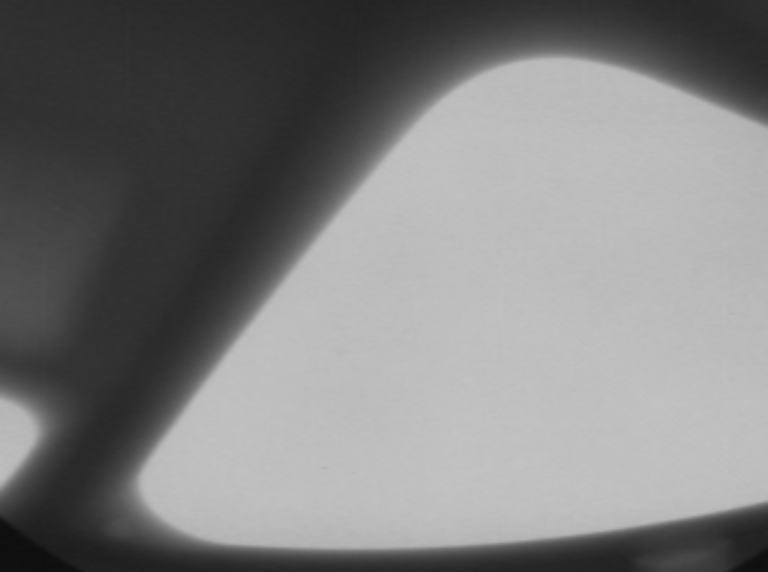defect: (90, 505, 156, 547)
